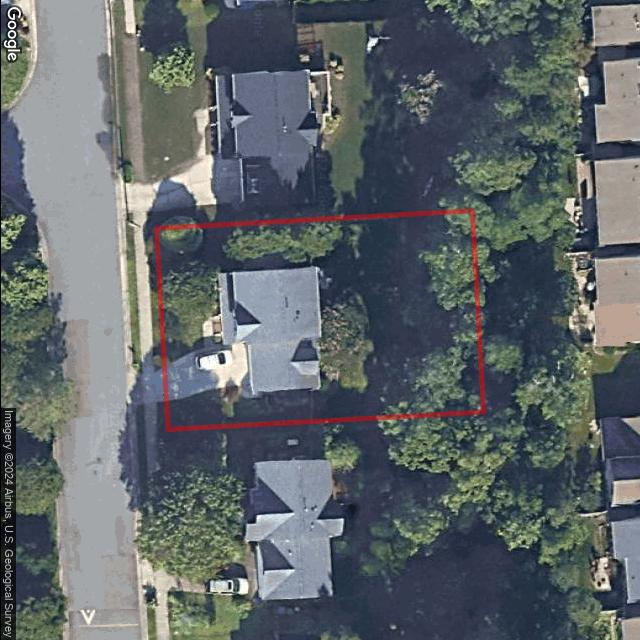Driveway: (164, 344, 251, 401)
Extra-Driveway: (131, 368, 165, 413)
Extra-Lawn: (146, 228, 164, 373), (125, 229, 141, 373), (156, 400, 167, 431), (134, 404, 143, 434)
Extra-Sidewalk: (133, 228, 154, 373), (143, 402, 155, 433)
House: (217, 267, 321, 395)
Lawn: (156, 212, 483, 430)
Other: (316, 267, 334, 312), (211, 315, 223, 343)
Sidewalk: (200, 318, 216, 348)
